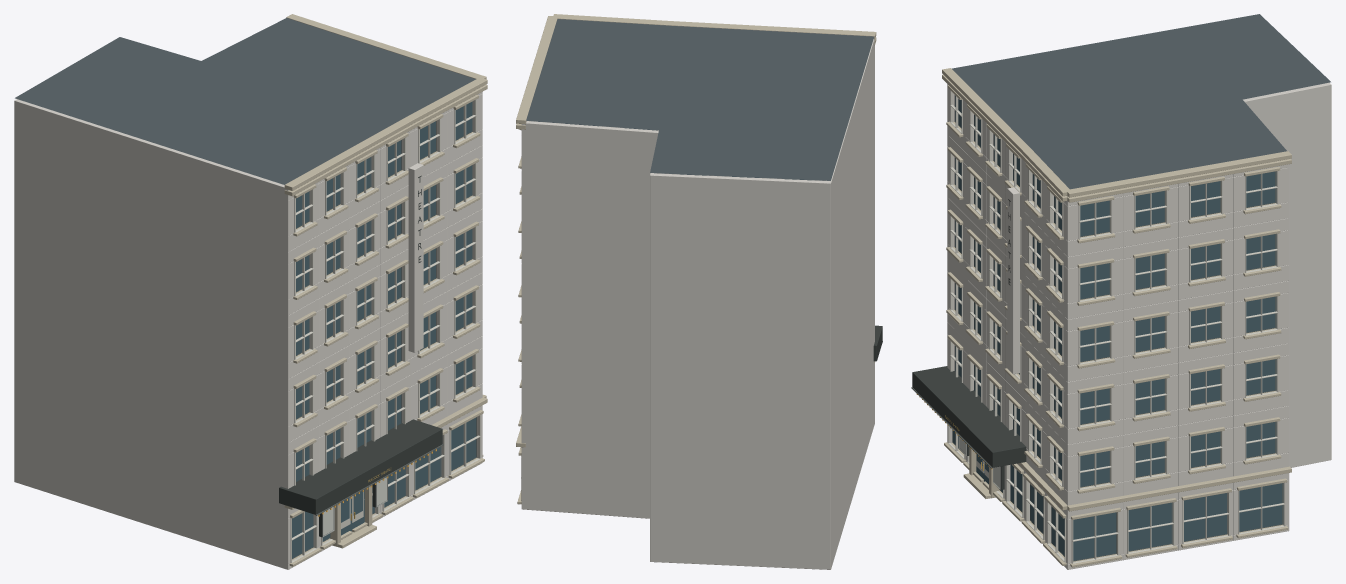
File: pea-exterior-c3fa7fafc358.glb
The picture shows the model from 3 angles, left to right: view 1: azimuth 30°, elevation 25°; view 2: azimuth 150°, elevation 25°; view 3: azimuth 270°, elevation 25°; orthographic projection. The views are drawn at different scales.
Visible parts, largest first — view 1: PEA.001; view 2: PEA.001; view 3: PEA.001.
Boxes of the visible parts, <box> form: PEA.001: <box>14,14,487,569</box>; PEA.001: <box>516,14,882,569</box>; PEA.001: <box>911,14,1331,569</box>.
Size of the model in its own units: 20.09 by 19.65 by 19.77.
